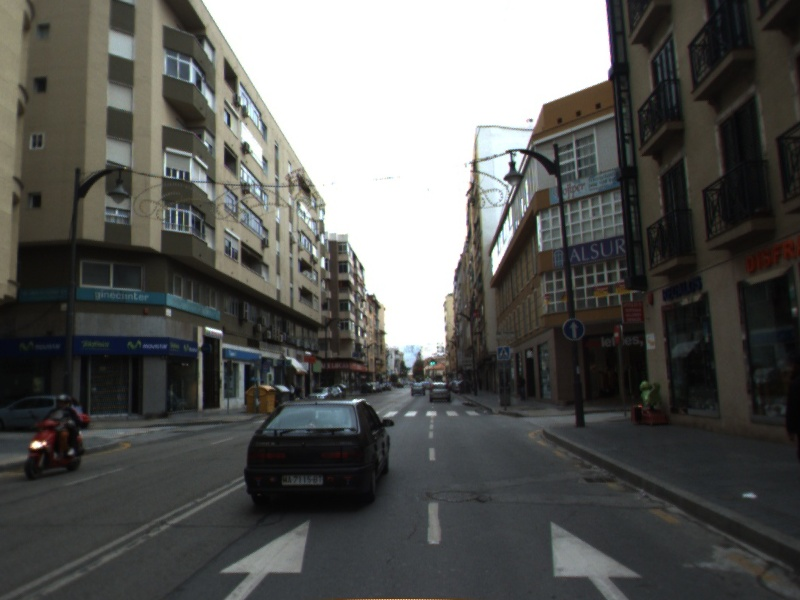STRAIGHT: (213, 513, 315, 600), (548, 517, 647, 600)
